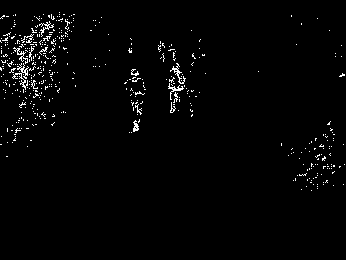person: (119, 65, 149, 136), (165, 62, 186, 118)
